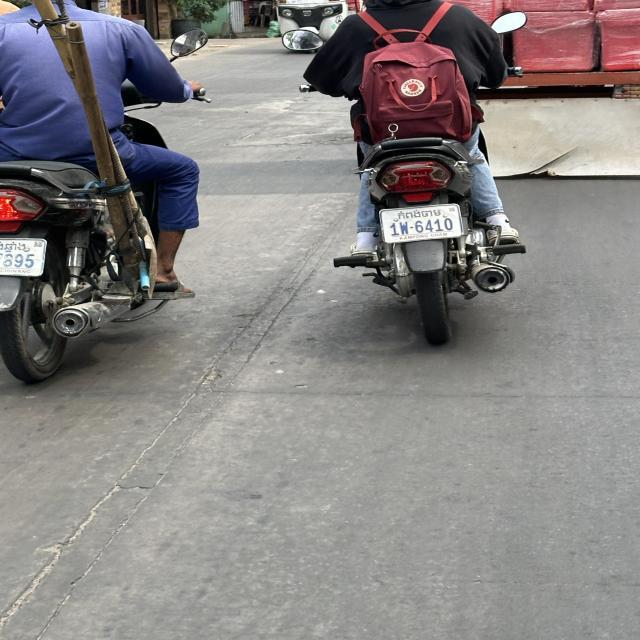Kampong_Cham: (397, 209, 442, 220)
